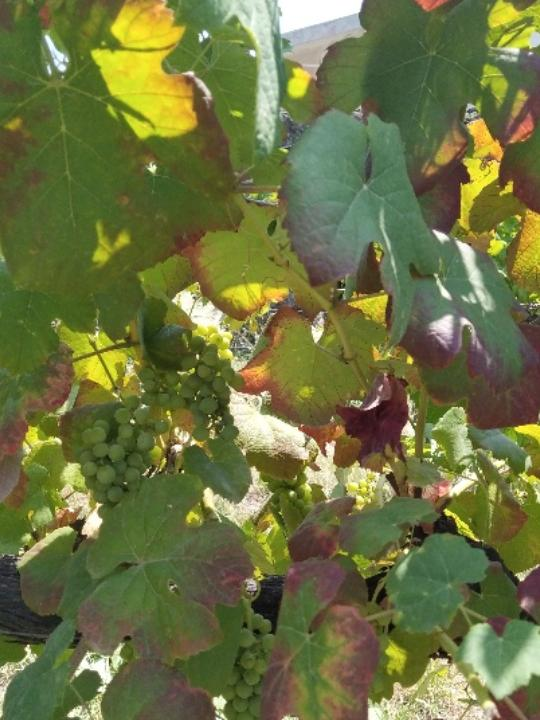grape: (136, 322, 247, 445), (77, 392, 171, 522), (219, 603, 279, 720)
